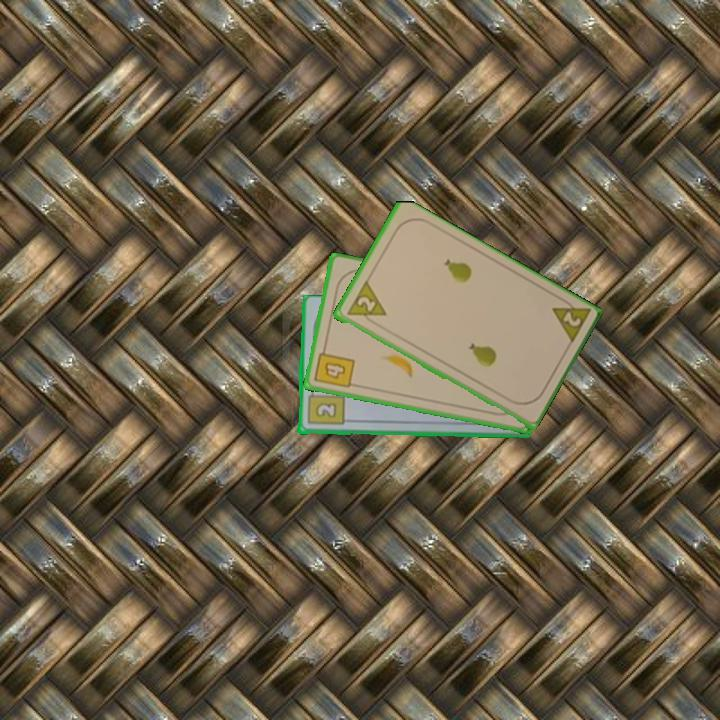2b: (304, 385, 346, 428)
2p: (548, 293, 593, 348), (343, 279, 389, 328)
4b: (311, 343, 358, 391)
